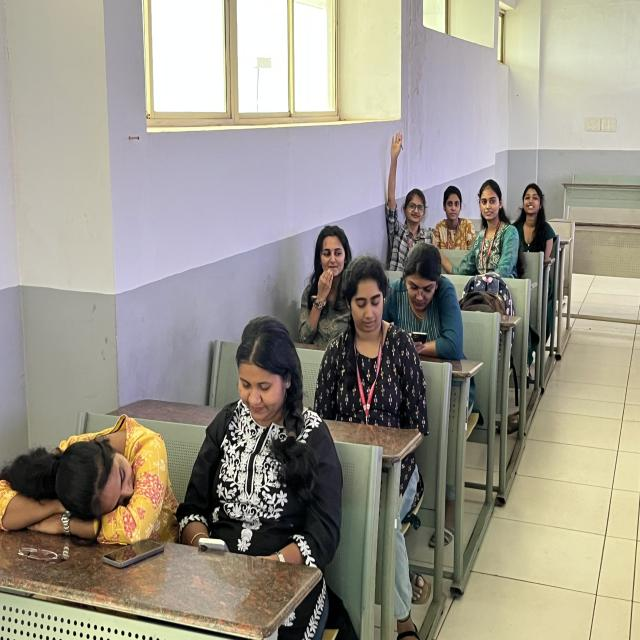Hand Rising: (377, 114, 432, 264)
Sleeping: (0, 374, 180, 568)
Using Phone: (180, 311, 336, 575), (388, 242, 467, 363)
